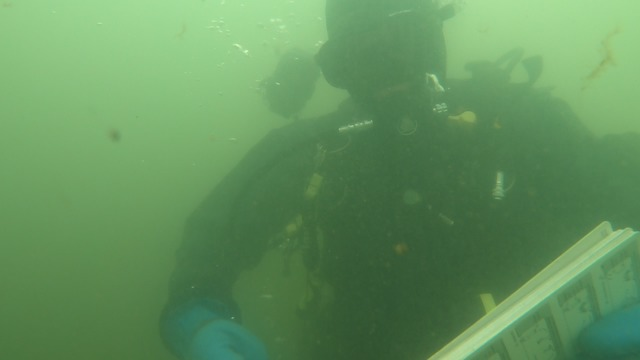Diver: (141, 9, 633, 355)
